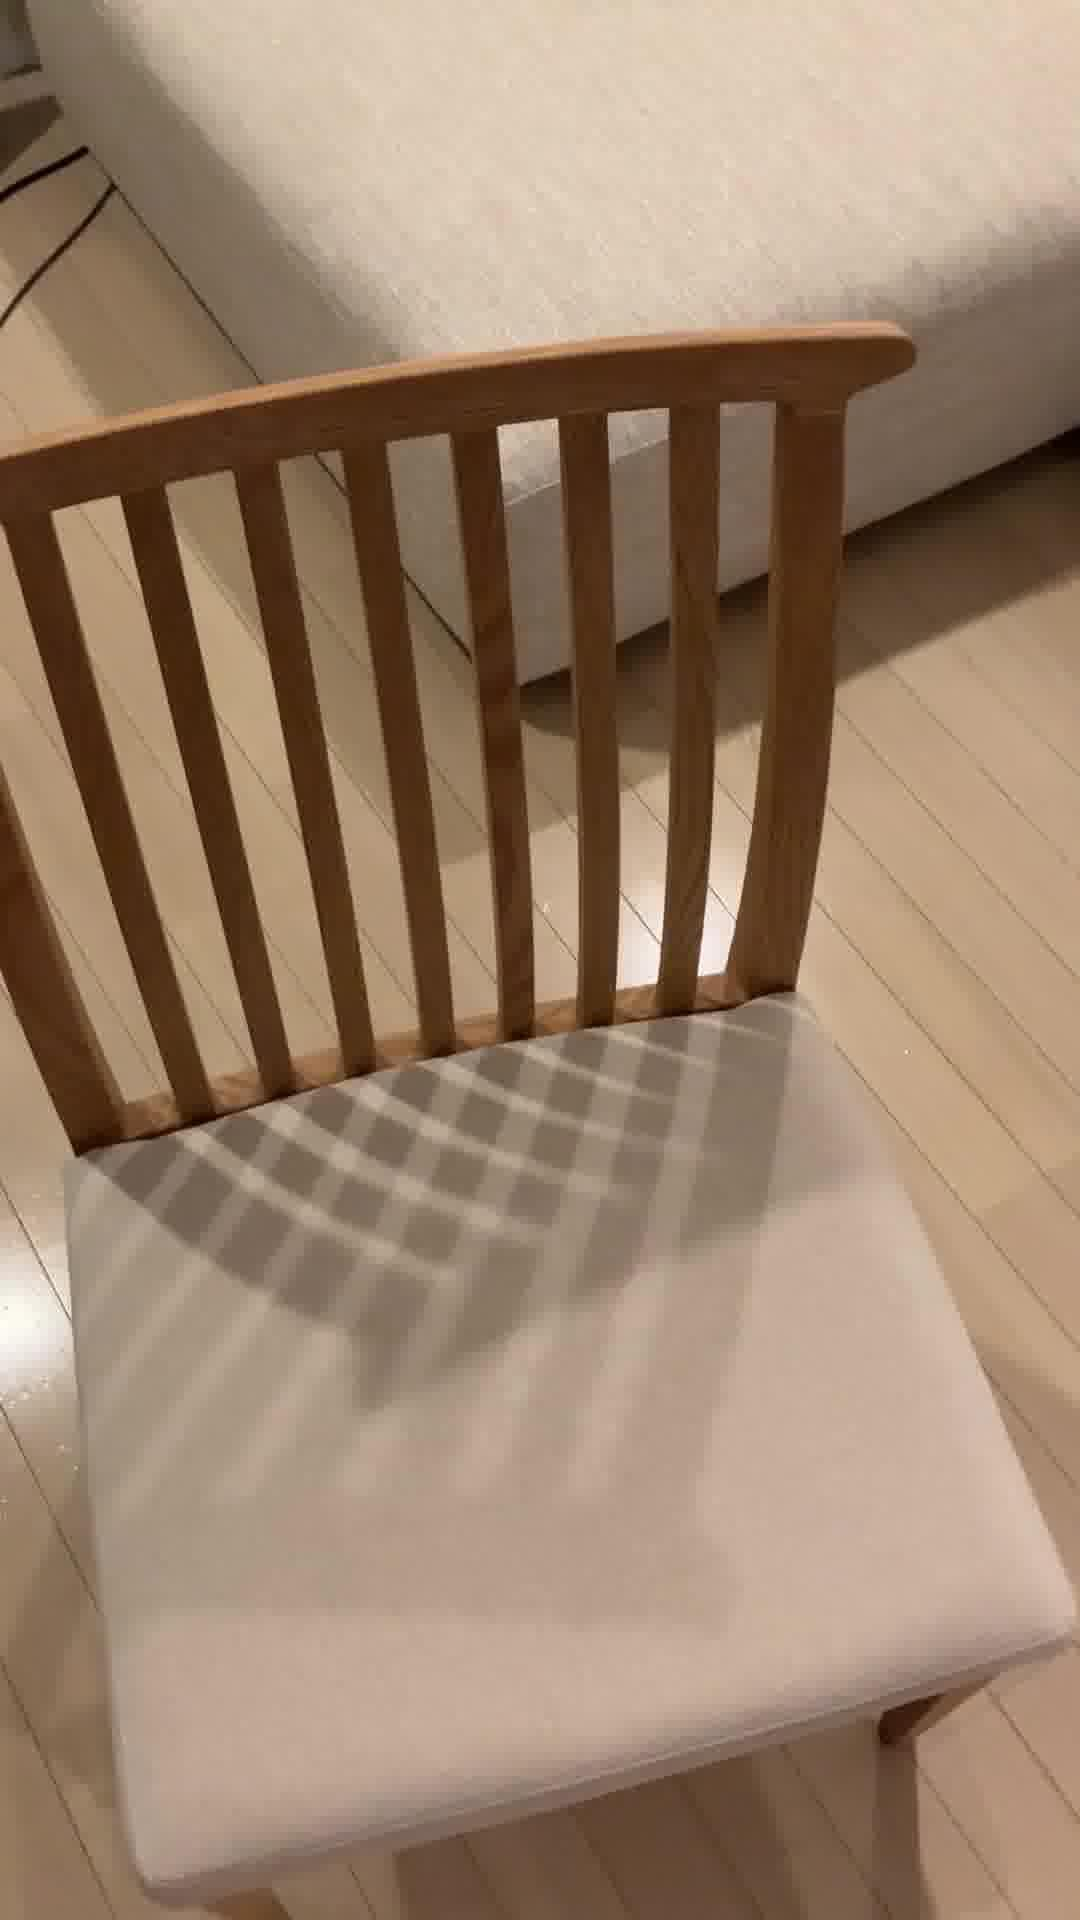takumikan-chair: (0, 310, 1080, 1920)
